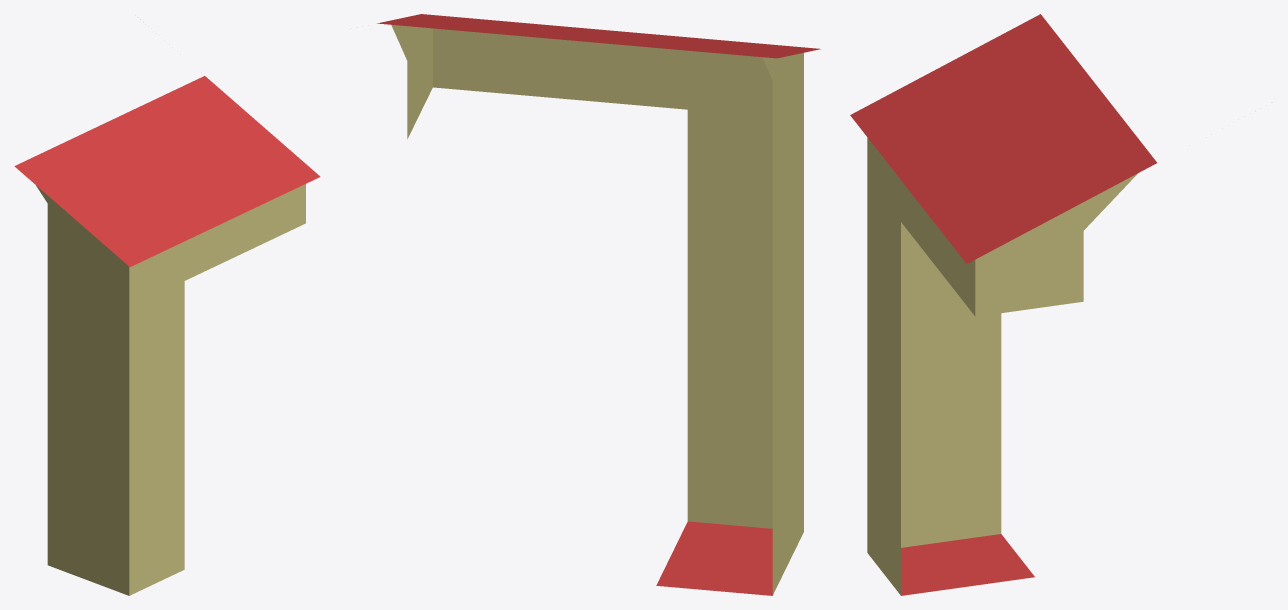
The picture shows the model from 3 angles, left to right: view 1: azimuth 30°, elevation 25°; view 2: azimuth 150°, elevation 25°; view 3: azimuth 270°, elevation 25°; orthographic projection. The views are drawn at different scales.
Bounding box in the file's own units: 7.64 × 7.79 × 11.23.
